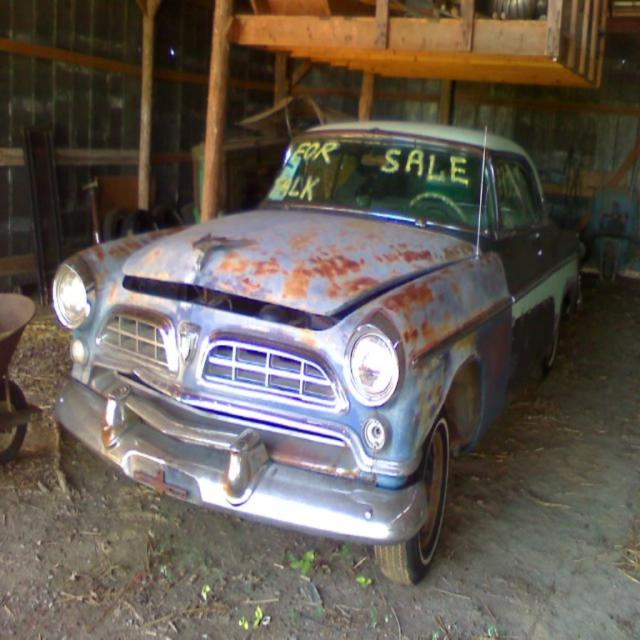car: (45, 107, 581, 584)
